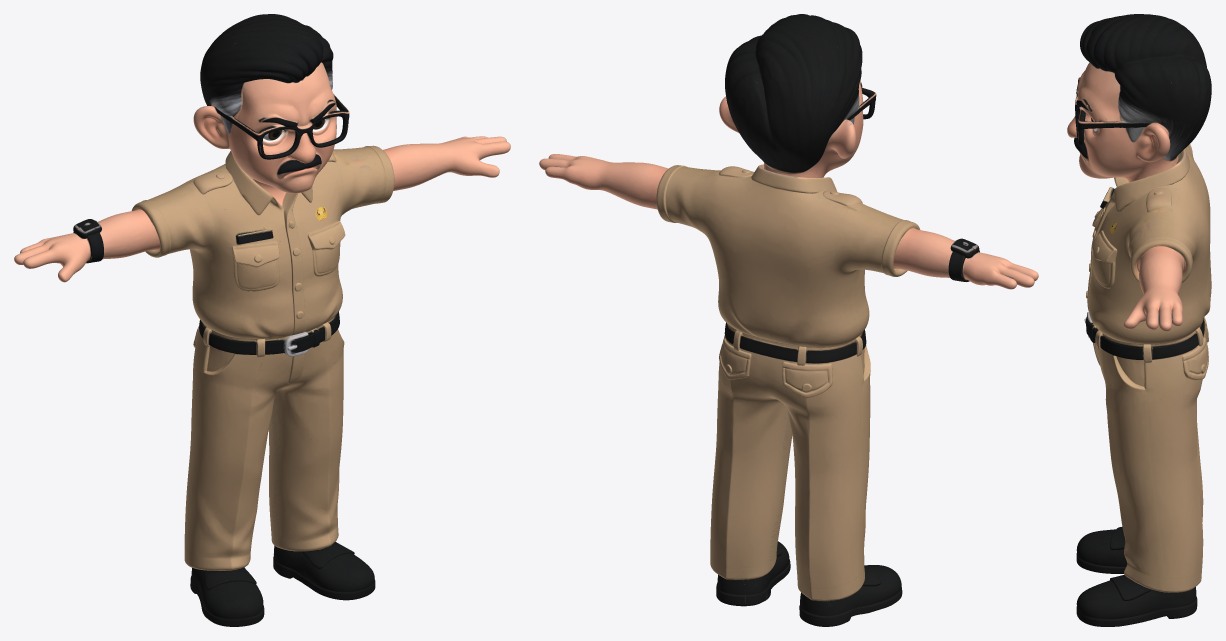
Rendered from Meshy_AI_Stern_Officer_in_T_Pose_20261030_texture.fbx.
The picture shows the model from 3 angles, left to right: view 1: azimuth 30°, elevation 25°; view 2: azimuth 150°, elevation 25°; view 3: azimuth 270°, elevation 25°; orthographic projection.
Visible parts, largest first — view 1: Mesh_0; view 2: Mesh_0; view 3: Mesh_0.
Boxes of the visible parts, x1,y1,x2,y2 form: Mesh_0: [14, 14, 510, 626]; Mesh_0: [539, 14, 1038, 626]; Mesh_0: [1067, 14, 1211, 626].
Bounding box in the file's own units: 173 × 190 × 43.95.
Materials: 1 (1 with a texture image).
